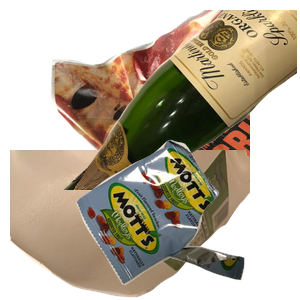glass: (60, 10, 300, 190)
paper: (49, 10, 289, 190)
plastic: (10, 150, 250, 300)
trash: (74, 137, 300, 300)
